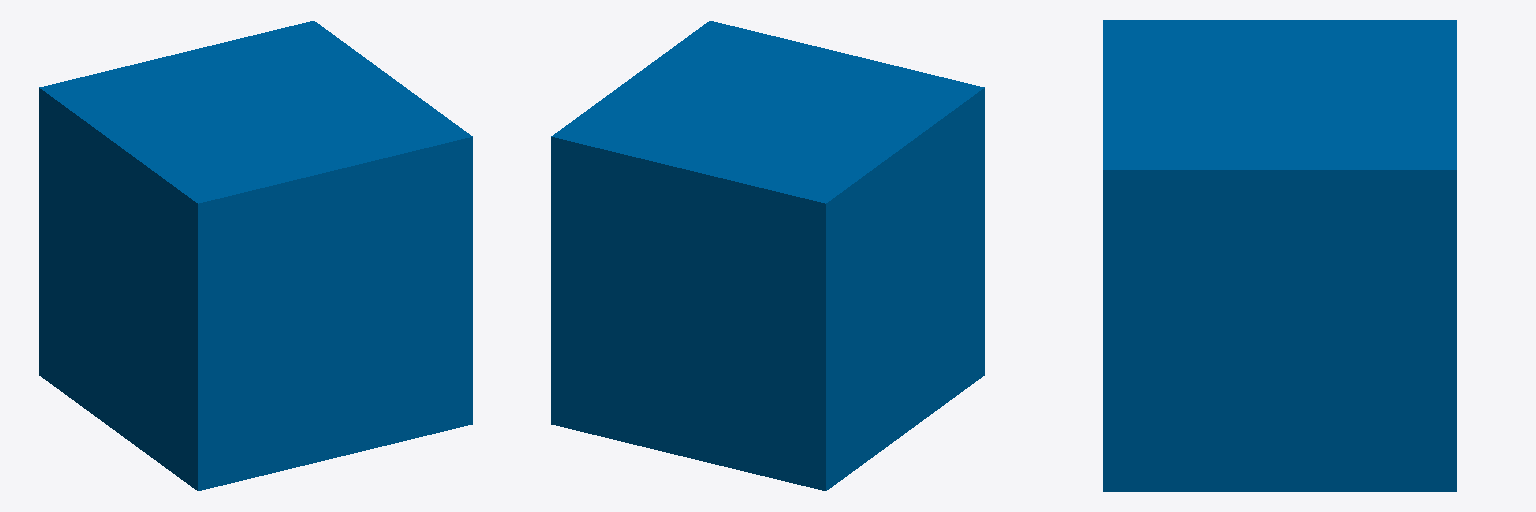
robot.urdf — gen3_camera:
<?xml version="1.0" encoding="utf-8"?>
<!-- =================================================================================== -->
<!-- |    This document was autogenerated by xacro from gen3_camera_custom_gripper.xacro | -->
<!-- |    EDITING THIS FILE BY HAND IS NOT RECOMMENDED                                 | -->
<!-- =================================================================================== -->
<robot name="gen3_camera">
  <!-- Run the macros -->
  <link name="base_link">
    <inertial>
      <origin rpy="0 0 0" xyz="-0.000648 -0.000166 0.084487"/>
      <mass value="1.697"/>
      <inertia ixx="0.004622" ixy="9E-06" ixz="6E-05" iyy="0.004495" iyz="9E-06" izz="0.002079"/>
    </inertial>
    <visual>
      <origin rpy="0 0 0" xyz="0 0 0"/>
      <geometry>
        <mesh filename="package://kortex_description/arms/gen3/meshes/base_link.STL"/>
      </geometry>
      <material name="">
        <color rgba="0.75294 0.75294 0.75294 1"/>
      </material>
    </visual>
    <collision>
      <origin rpy="0 0 0" xyz="0 0 0"/>
      <geometry>
        <mesh filename="package://kortex_description/arms/gen3/meshes/base_link.STL"/>
      </geometry>
    </collision>
  </link>
  <link name="shoulder_link">
    <inertial>
      <origin rpy="0 0 0" xyz="-2.3E-05 -0.010364 -0.07336"/>
      <mass value="1.3773"/>
      <inertia ixx="0.00457" ixy="1E-06" ixz="2E-06" iyy="0.004831" iyz="0.000448" izz="0.001409"/>
    </inertial>
    <visual>
      <origin rpy="0 0 0" xyz="0 0 0"/>
      <geometry>
        <mesh filename="package://kortex_description/arms/gen3/meshes/shoulder_link.STL"/>
      </geometry>
      <material name="">
        <color rgba="0.75294 0.75294 0.75294 1"/>
      </material>
    </visual>
    <collision>
      <origin rpy="0 0 0" xyz="0 0 0"/>
      <geometry>
        <mesh filename="package://kortex_description/arms/gen3/meshes/shoulder_link.STL"/>
      </geometry>
    </collision>
  </link>
  <joint name="joint_1" type="continuous">
    <origin rpy="3.1416 2.7629E-18 -4.9305E-36" xyz="0 0 0.15643"/>
    <parent link="base_link"/>
    <child link="shoulder_link"/>
    <axis xyz="0 0 1"/>
    <limit effort="39" velocity="0.8727"/>
  </joint>
  <link name="half_arm_1_link">
    <inertial>
      <origin rpy="0 0 0" xyz="-4.4E-05 -0.09958 -0.013278"/>
      <mass value="1.1636"/>
      <inertia ixx="0.011088" ixy="5E-06" ixz="0" iyy="0.001072" iyz="-0.000691" izz="0.011255"/>
    </inertial>
    <visual>
      <origin rpy="0 0 0" xyz="0 0 0"/>
      <geometry>
        <mesh filename="package://kortex_description/arms/gen3/meshes/half_arm_1_link.STL"/>
      </geometry>
      <material name="">
        <color rgba="0.75294 0.75294 0.75294 1"/>
      </material>
    </visual>
    <collision>
      <origin rpy="0 0 0" xyz="0 0 0"/>
      <geometry>
        <mesh filename="package://kortex_description/arms/gen3/meshes/half_arm_1_link.STL"/>
      </geometry>
    </collision>
  </link>
  <joint name="joint_2" type="revolute">
    <origin rpy="1.5708 2.1343E-17 -1.1102E-16" xyz="0 0.005375 -0.12838"/>
    <parent link="shoulder_link"/>
    <child link="half_arm_1_link"/>
    <axis xyz="0 0 1"/>
    <limit effort="39" lower="-2.41" upper="2.41" velocity="0.8727"/>
  </joint>
  <link name="half_arm_2_link">
    <inertial>
      <origin rpy="0 0 0" xyz="-4.4E-05 -0.006641 -0.117892"/>
      <mass value="1.1636"/>
      <inertia ixx="0.010932" ixy="0" ixz="-7E-06" iyy="0.011127" iyz="0.000606" izz="0.001043"/>
    </inertial>
    <visual>
      <origin rpy="0 0 0" xyz="0 0 0"/>
      <geometry>
        <mesh filename="package://kortex_description/arms/gen3/meshes/half_arm_2_link.STL"/>
      </geometry>
      <material name="">
        <color rgba="0.75294 0.75294 0.75294 1"/>
      </material>
    </visual>
    <collision>
      <origin rpy="0 0 0" xyz="0 0 0"/>
      <geometry>
        <mesh filename="package://kortex_description/arms/gen3/meshes/half_arm_2_link.STL"/>
      </geometry>
    </collision>
  </link>
  <joint name="joint_3" type="continuous">
    <origin rpy="-1.5708 1.2326E-32 -2.9122E-16" xyz="0 -0.21038 -0.006375"/>
    <parent link="half_arm_1_link"/>
    <child link="half_arm_2_link"/>
    <axis xyz="0 0 1"/>
    <limit effort="39" velocity="0.8727"/>
  </joint>
  <link name="forearm_link">
    <inertial>
      <origin rpy="0 0 0" xyz="-1.8E-05 -0.075478 -0.015006"/>
      <mass value="0.9302"/>
      <inertia ixx="0.008147" ixy="-1E-06" ixz="0" iyy="0.000631" iyz="-0.0005" izz="0.008316"/>
    </inertial>
    <visual>
      <origin rpy="0 0 0" xyz="0 0 0"/>
      <geometry>
        <mesh filename="package://kortex_description/arms/gen3/meshes/forearm_link.STL"/>
      </geometry>
      <material name="">
        <color rgba="0.75294 0.75294 0.75294 1"/>
      </material>
    </visual>
    <collision>
      <origin rpy="0 0 0" xyz="0 0 0"/>
      <geometry>
        <mesh filename="package://kortex_description/arms/gen3/meshes/forearm_link.STL"/>
      </geometry>
    </collision>
  </link>
  <joint name="joint_4" type="revolute">
    <origin rpy="1.5708 -6.6954E-17 -1.6653E-16" xyz="0 0.006375 -0.21038"/>
    <parent link="half_arm_2_link"/>
    <child link="forearm_link"/>
    <axis xyz="0 0 1"/>
    <limit effort="39" lower="-2.66" upper="2.66" velocity="0.8727"/>
  </joint>
  <link name="spherical_wrist_1_link">
    <inertial>
      <origin rpy="0 0 0" xyz="1E-06 -0.009432 -0.063883"/>
      <mass value="0.6781"/>
      <inertia ixx="0.001596" ixy="0" ixz="0" iyy="0.001607" iyz="0.000256" izz="0.000399"/>
    </inertial>
    <visual>
      <origin rpy="0 0 0" xyz="0 0 0"/>
      <geometry>
        <mesh filename="package://kortex_description/arms/gen3/meshes/spherical_wrist_1_link.STL"/>
      </geometry>
      <material name="">
        <color rgba="0.75294 0.75294 0.75294 1"/>
      </material>
    </visual>
    <collision>
      <origin rpy="0 0 0" xyz="0 0 0"/>
      <geometry>
        <mesh filename="package://kortex_description/arms/gen3/meshes/spherical_wrist_1_link.STL"/>
      </geometry>
    </collision>
  </link>
  <joint name="joint_5" type="continuous">
    <origin rpy="-1.5708 2.2204E-16 -6.373E-17" xyz="0 -0.20843 -0.006375"/>
    <parent link="forearm_link"/>
    <child link="spherical_wrist_1_link"/>
    <axis xyz="0 0 1"/>
    <limit effort="9" velocity="0.8727"/>
  </joint>
  <link name="spherical_wrist_2_link">
    <inertial>
      <origin rpy="0 0 0" xyz="1E-06 -0.045483 -0.00965"/>
      <mass value="0.6781"/>
      <inertia ixx="0.001641" ixy="0" ixz="0" iyy="0.00041" iyz="-0.000278" izz="0.001641"/>
    </inertial>
    <visual>
      <origin rpy="0 0 0" xyz="0 0 0"/>
      <geometry>
        <mesh filename="package://kortex_description/arms/gen3/meshes/spherical_wrist_2_link.STL"/>
      </geometry>
      <material name="">
        <color rgba="0.75294 0.75294 0.75294 1"/>
      </material>
    </visual>
    <collision>
      <origin rpy="0 0 0" xyz="0 0 0"/>
      <geometry>
        <mesh filename="package://kortex_description/arms/gen3/meshes/spherical_wrist_2_link.STL"/>
      </geometry>
    </collision>
  </link>
  <joint name="joint_6" type="revolute">
    <origin rpy="1.5708 9.2076E-28 -8.2157E-15" xyz="0 0.00017505 -0.10593"/>
    <parent link="spherical_wrist_1_link"/>
    <child link="spherical_wrist_2_link"/>
    <axis xyz="0 0 1"/>
    <limit effort="9" lower="-2.23" upper="2.23" velocity="0.8727"/>
  </joint>
  <link name="bracelet_link">
    <inertial>
      <origin rpy="0 0 0" xyz="-0.000281 -0.011402 -0.029798"/>
      <mass value="0.5006"/>
      <inertia ixx="0.000587" ixy="3E-06" ixz="3E-06" iyy="0.000369" iyz="0.000118" izz="0.000609"/>
    </inertial>
    <visual>
      <origin rpy="0 0 0" xyz="0 0 0"/>
      <geometry>
        <mesh filename="package://kortex_description/arms/gen3/meshes/bracelet_link.STL"/>
      </geometry>
      <material name="">
        <color rgba="0.75294 0.75294 0.75294 1"/>
      </material>
    </visual>
    <collision>
      <origin rpy="0 0 0" xyz="0 0 0"/>
      <geometry>
        <mesh filename="package://kortex_description/arms/gen3/meshes/bracelet_link.STL"/>
      </geometry>
    </collision>
  </link>
  <joint name="joint_7" type="continuous">
    <origin rpy="-1.5708 -5.5511E-17 9.6396E-17" xyz="0 -0.10593 -0.00017505"/>
    <parent link="spherical_wrist_2_link"/>
    <child link="bracelet_link"/>
    <axis xyz="0 0 1"/>
    <limit effort="9" velocity="0.8727"/>
  </joint>
  <link name="end_effector_link"/>
  <joint name="end_effector" type="fixed">
    <origin rpy="3.14159265358979 1.09937075168372E-32 0" xyz="0 0 -0.0615250000000001"/>
    <parent link="bracelet_link"/>
    <child link="end_effector_link"/>
    <axis xyz="0 0 0"/>
  </joint>
  <material name="black">
    <color rgba="0 0 0 1"/>
  </material>
  <joint name="gripper_base_joint" type="fixed">
    <parent link="end_effector_link"/>
    <child link="gripper_base_link"/>
    <origin rpy="1.57 -1.57 0.0" xyz="0.0 0.0 -0.007"/>
  </joint>
  <link name="gripper_base_link">
    <visual>
      <geometry>
        <mesh filename="package://kortex_gazebo_camera/grippers/custom/meshes/custom_gripper_base.stl" scale="0.001 0.001 0.001"/>
      </geometry>
      <material name="black"/>
    </visual>
    <collision>
      <geometry>
        <mesh filename="package://kortex_gazebo_camera/grippers/custom/meshes/custom_gripper_base.stl" scale="0.001 0.001 0.001"/>
      </geometry>
    </collision>
    <inertial>
      <mass value="0.636951"/>
      <origin xyz="0.0 0.0 0.0"/>
      <inertia ixx="0.000380" ixy="0.000000" ixz="0.000000" iyx="0.000000" iyy="0.001110" iyz="0.000000" izx="0.000000" izy="0.000000" izz="0.001171"/>
    </inertial>
  </link>
  <gazebo reference="gripper_base_link">
    <implicitSpringDamper>1</implicitSpringDamper>
    <mu1>100000</mu1>
    <mu2>100000</mu2>
    <kp>100000000.0</kp>
    <kd>1.0</kd>
    <material>Gazebo/DarkGrey</material>
  </gazebo>
  <joint name="gripper_finger1_joint" type="prismatic">
    <parent link="gripper_base_link"/>
    <child link="gripper_finger1_finger_tip_link"/>
    <axis xyz="0 1 0"/>
    <origin rpy="3.14159 0.0 0.0" xyz="0.05490451627 0.05060114443 0.0"/>
    <limit effort="1000" lower="0.0" upper="0.06" velocity="2.0"/>
    <dynamics damping="1.0"/>
  </joint>
  <joint name="gripper_finger2_joint" type="prismatic">
    <parent link="gripper_base_link"/>
    <child link="gripper_finger2_finger_tip_link"/>
    <axis xyz="0 1 0"/>
    <origin rpy="0.0 0.0 0.0" xyz="0.05490451627 -0.05060114443 0.0"/>
    <limit effort="1000" lower="0.0" upper="0.06" velocity="2.0"/>
    <mimic joint="gripper_finger1_joint" multiplier="1.0"/>
    <dynamics damping="1.0"/>
  </joint>
  <link name="gripper_finger1_finger_tip_link">
    <visual>
      <origin rpy="0 0 0" xyz="0.05 0 0"/>
      <geometry>
        <mesh filename="package://kortex_gazebo_camera/grippers/custom/meshes/custom_gripper_finger.stl" scale="0.001 0.001 0.001"/>
      </geometry>
      <material name="black"/>
    </visual>
    <collision>
      <origin rpy="0 0 0" xyz="0.05 0 0"/>
      <geometry>
        <mesh filename="package://kortex_gazebo_camera/grippers/custom/meshes/custom_gripper_finger.stl" scale="0.001 0.001 0.001"/>
      </geometry>
    </collision>
    <inertial>
      <mass value="0.019555"/>
      <origin xyz="0.0 0.0 0.0"/>
      <inertia ixx="0.000002" ixy="0.000000" ixz="0.000000" iyx="0.000000" iyy="0.000005" iyz="0.000000" izx="0.000000" izy="0.000000" izz="0.000006"/>
    </inertial>
  </link>
  <gazebo reference="gripper_finger1_finger_tip_link">
    <implicitSpringDamper>1</implicitSpringDamper>
    <mu1>100000</mu1>
    <mu2>100000</mu2>
    <kp>100000000.0</kp>
    <kd>1.0</kd>
    <material>Gazebo/DarkGrey</material>
  </gazebo>
  <link name="gripper_finger2_finger_tip_link">
    <visual>
      <origin rpy="0 0 0" xyz="0.05 0 0"/>
      <geometry>
        <mesh filename="package://kortex_gazebo_camera/grippers/custom/meshes/custom_gripper_finger.stl" scale="0.001 0.001 0.001"/>
      </geometry>
      <material name="black"/>
    </visual>
    <collision>
      <origin rpy="0 0 0" xyz="0.05 0 0"/>
      <geometry>
        <mesh filename="package://kortex_gazebo_camera/grippers/custom/meshes/custom_gripper_finger.stl" scale="0.001 0.001 0.001"/>
      </geometry>
    </collision>
    <inertial>
      <mass value="0.019555"/>
      <origin xyz="0.0 0.0 0.0"/>
      <inertia ixx="0.000002" ixy="0.000000" ixz="0.000000" iyx="0.000000" iyy="0.000005" iyz="0.000000" izx="0.000000" izy="0.000000" izz="0.000006"/>
    </inertial>
  </link>
  <gazebo reference="gripper_finger2_finger_tip_link">
    <implicitSpringDamper>1</implicitSpringDamper>
    <mu1>100000</mu1>
    <mu2>100000</mu2>
    <kp>100000000.0</kp>
    <kd>1.0</kd>
    <material>Gazebo/DarkGrey</material>
  </gazebo>
  <!-- last_arm_link is defined in "$(find kortex_description)/arms/$(arg arm)/urdf/$(arg arm)_macro.xacro" -->
  <joint name="camera_sensor_joint" type="fixed">
    <axis xyz="0 0 0"/>
    <origin rpy="0 0 0" xyz="0 -0.055 -0.055"/>
    <parent link="bracelet_link"/>
    <child link="camera_link"/>
  </joint>
  <link name="camera_link">
    <visual>
      <origin rpy="0 0 0" xyz="0 0 0"/>
      <geometry>
        <box size="0.05 0.05 0.05"/>
      </geometry>
    </visual>
    <inertial>
      <mass value="0.0001"/>
      <origin rpy="0 0 0" xyz="0 0 0"/>
      <inertia ixx="0.0000001" ixy="0" ixz="0" iyy="0.0000001" iyz="0" izz="0.0000001"/>
    </inertial>
  </link>
  <gazebo reference="camera_link">
    <sensor name="camera" type="camera">
      <update_rate>30.0</update_rate>
      <camera name="arm_camera">
        <pose>0 0 0 0 1.57 -1.57 0</pose>
        <horizontal_fov>1.211269</horizontal_fov>
        <vertical_fov>0.7417649</vertical_fov>
        <image>
          <width>480</width>
          <height>270</height>
          <format>R8G8B8</format>
        </image>
        <clip>
          <near>0.02</near>
          <far>300</far>
        </clip>
        <noise>
          <type>gaussian</type>
          <mean>0.0</mean>
          <stddev>0.007</stddev>
        </noise>
      </camera>
      <plugin filename="libgazebo_ros_camera.so" name="camera_controller">
        <alwaysOn>true</alwaysOn>
        <updateRate>0.0</updateRate>
        <cameraName>camera</cameraName>
        <imageTopicName>image_raw</imageTopicName>
        <cameraInfoTopicName>camera_info</cameraInfoTopicName>
        <frameName>camera_link</frameName>
        <hackBaseline>0.07</hackBaseline>
        <distortionK1>0.0</distortionK1>
        <distortionK2>0.0</distortionK2>
        <distortionK3>0.0</distortionK3>
        <distortionT1>0.0</distortionT1>
        <distortionT2>0.0</distortionT2>
      </plugin>
    </sensor>
  </gazebo>
</robot>

--- Facts derived from the render (not from the file) ---
Views: 3 orthographic renders of the robot side by side, from view 1: azimuth 30°, elevation 25°; view 2: azimuth 150°, elevation 25°; view 3: azimuth 270°, elevation 25°.
Model gen3_camera with 13 links and 12 joints (3 revolute, 4 continuous, 2 prismatic, 3 fixed), rooted at base_link, posed all joints at 0.
Visible links, largest first — view 1: camera_link; view 2: camera_link; view 3: camera_link.
Boxes of the visible links, left/top/right/bottom form: camera_link: left=39, top=21, right=472, bottom=490; camera_link: left=551, top=21, right=984, bottom=490; camera_link: left=1103, top=20, right=1456, bottom=491.
Size in the robot's own frame: 0.05 by 0.05 by 0.05 metres.
0 mesh visuals loaded from 10 distinct referenced files (none loaded); not drawn: 11 (reference not matched to a file when rendering).